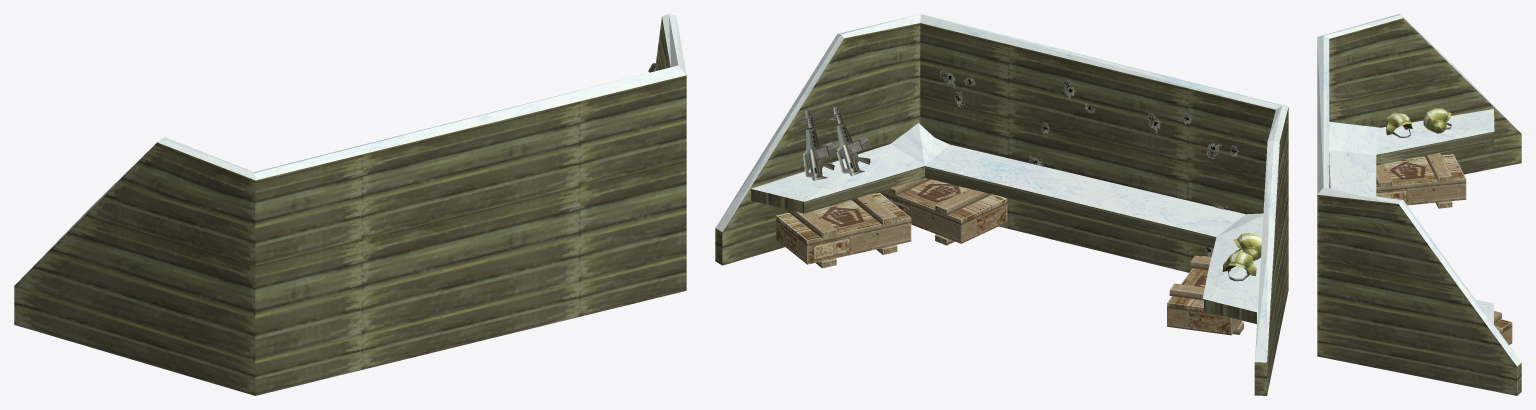
File: GUNRANGE1H.obj
The picture shows the model from 3 angles, left to right: view 1: azimuth 30°, elevation 25°; view 2: azimuth 150°, elevation 25°; view 3: azimuth 270°, elevation 25°; orthographic projection. The views are drawn at different scales.
Parts seen in each view (by area): view 1: Node 0; view 2: Node 0; view 3: Node 0.
Part boxes in pixels (box(x1,y1,x2,y2)): Node 0: box(14, 14, 686, 395); Node 0: box(715, 14, 1288, 395); Node 0: box(1317, 14, 1521, 395).
Size of the model in its own units: 9.71 by 3.25 by 3.54.
6 materials, 6 textured.
